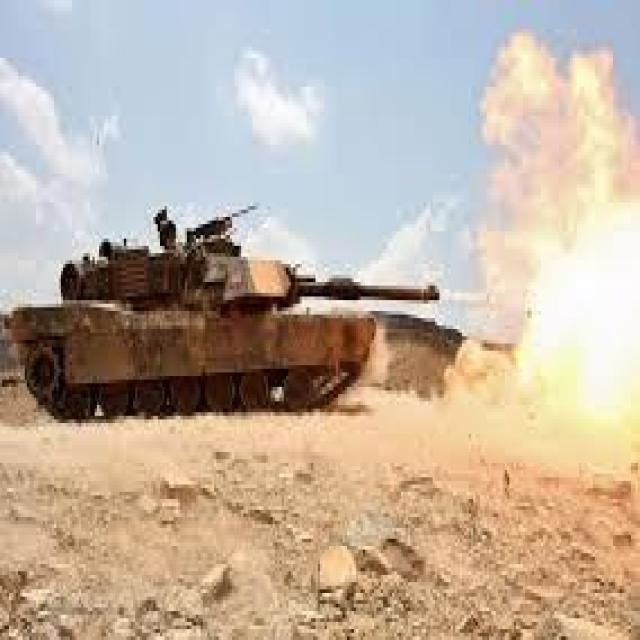Tanks: (20, 210, 388, 412)
